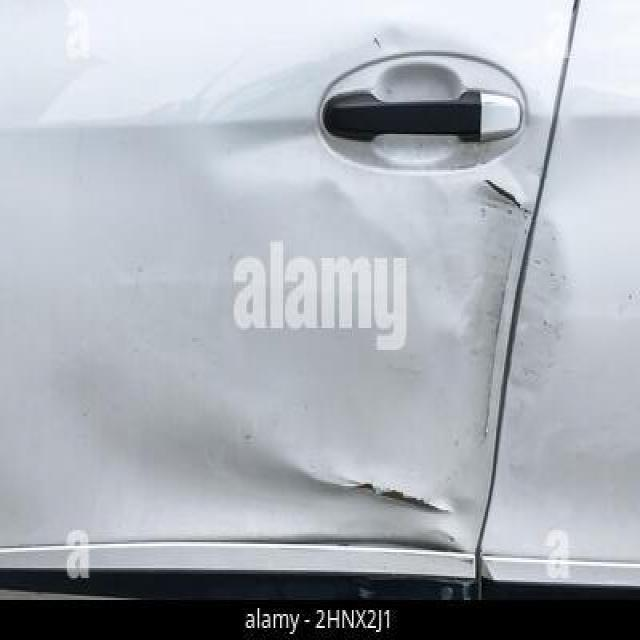dent: (255, 410, 490, 542), (472, 167, 555, 213)
